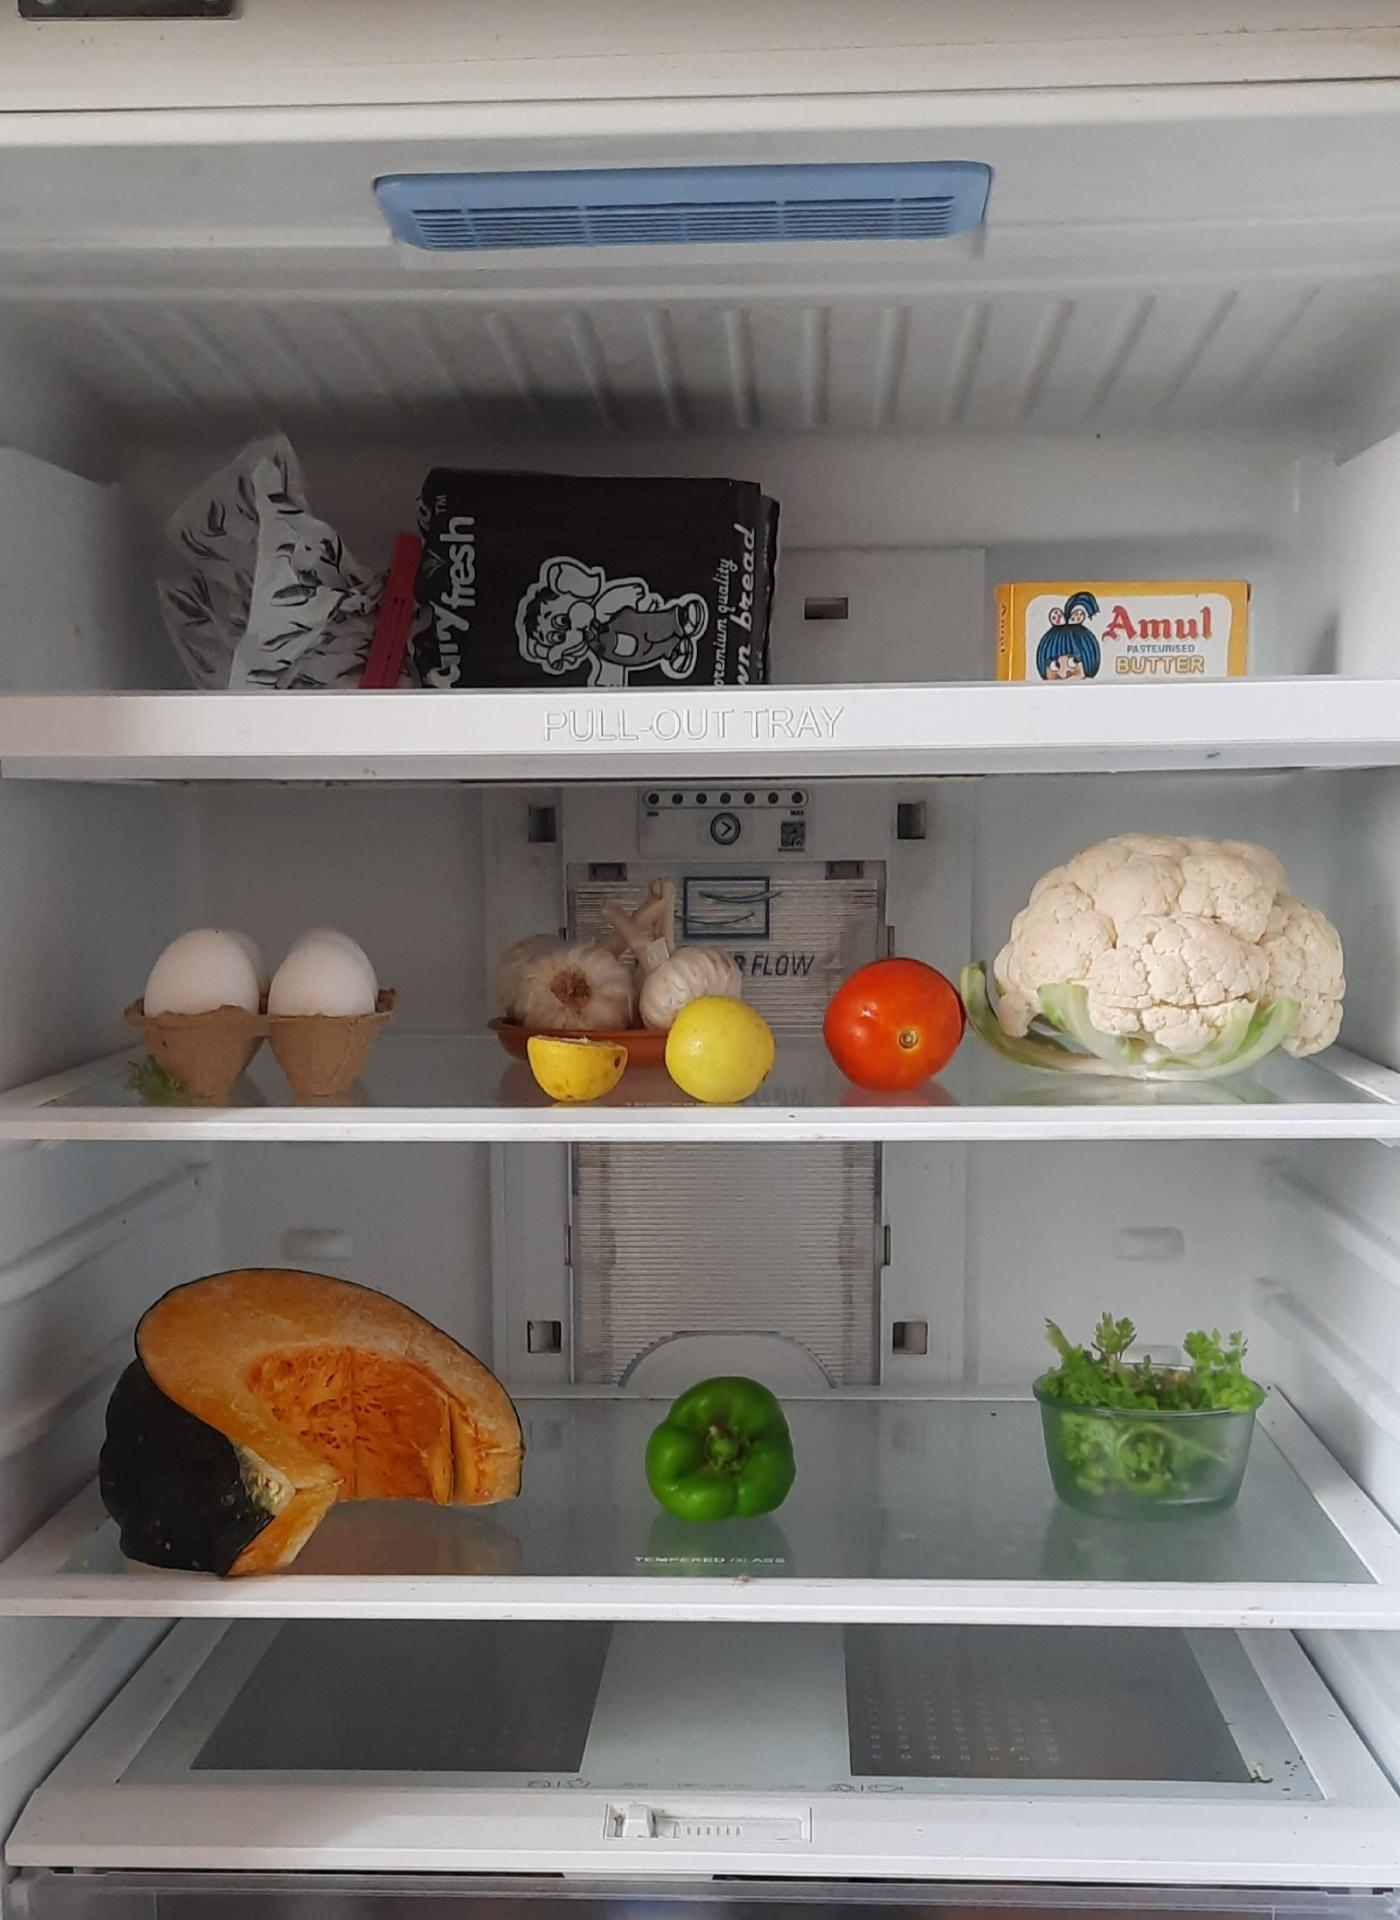bread: (234, 461, 893, 666)
butter: (988, 556, 1288, 710)
capsicum: (634, 1406, 833, 1538)
cauliflower: (1000, 845, 1369, 1055)
coriander: (1033, 1310, 1276, 1494)
egg: (148, 927, 388, 1033)
garlic: (511, 932, 707, 1008)
lemon: (508, 1029, 647, 1097)
pumpkin: (118, 1283, 544, 1529)
tomato: (839, 961, 962, 1094)
